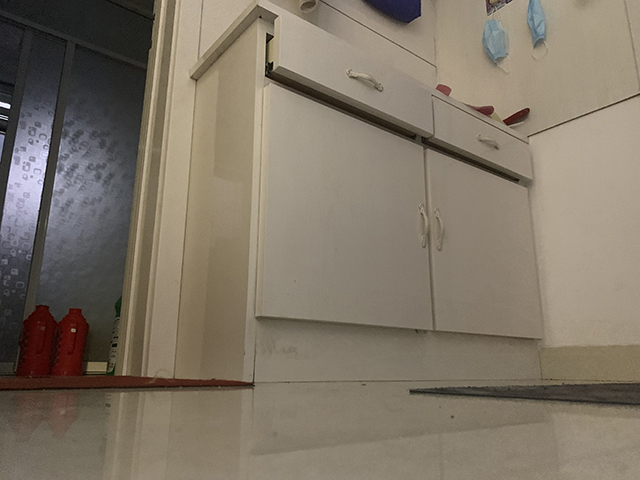carpet: (171, 1, 548, 385), (406, 381, 640, 409), (1, 372, 255, 391)
